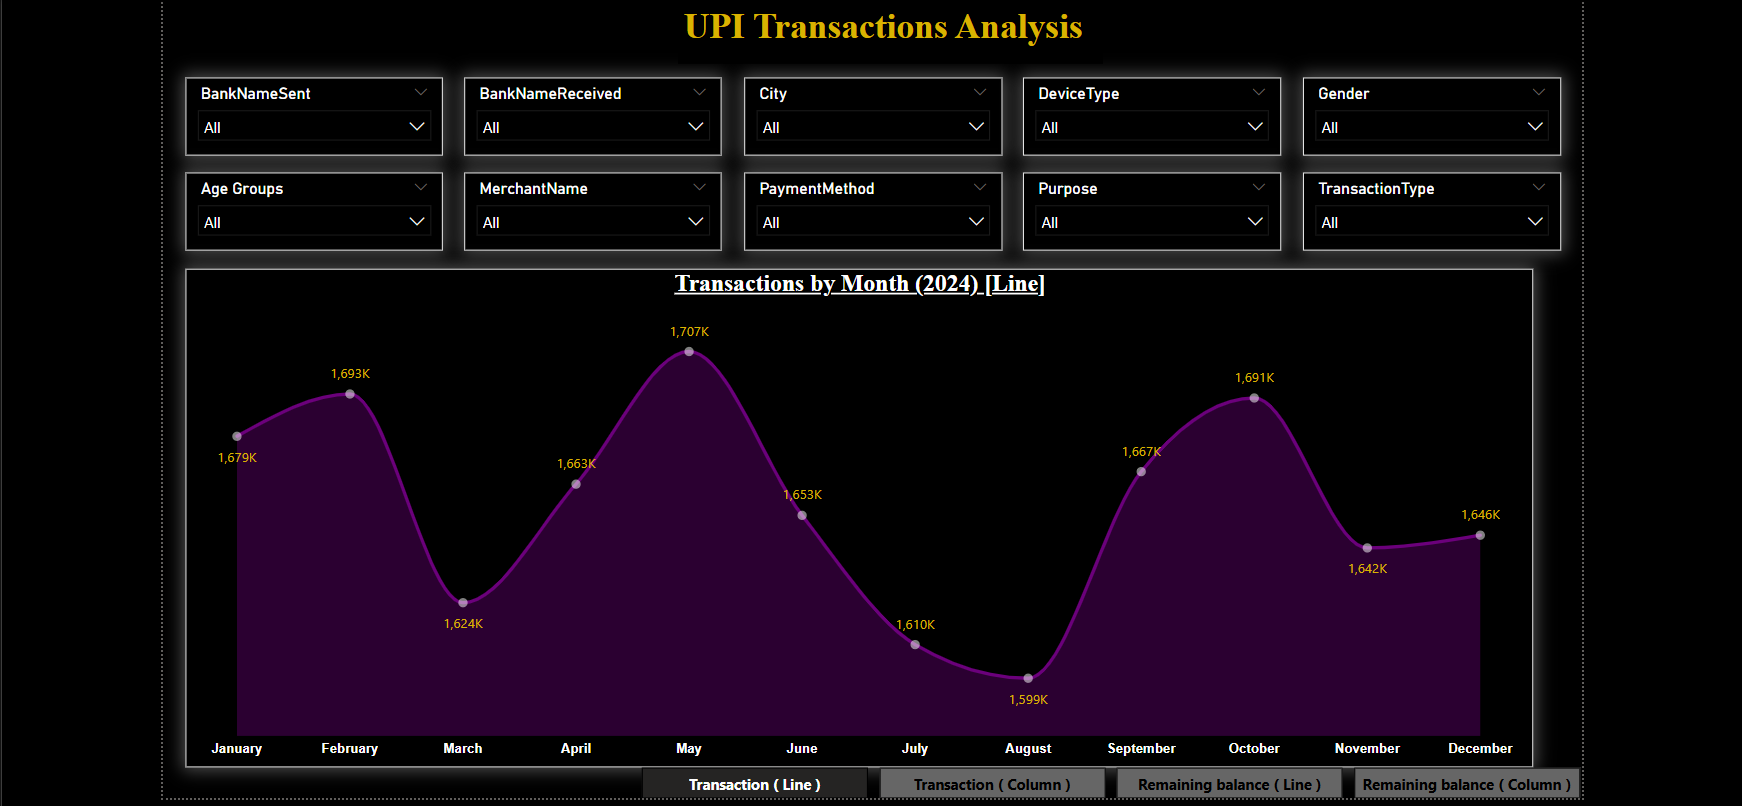

What the dashboard file says about the page in this screenshot:
{"tool":"powerbi","page":{"name":"Page 1","canvas":[1280,720],"ordinal":0},"visuals":[{"type":"slicer","fields":{"Values":["UPI Transactions.BankNameSent"]},"box":[20,70,232,70],"z":0},{"type":"slicer","fields":{"Values":["UPI Transactions.BankNameReceived"]},"box":[272,70,232,70],"z":1000},{"type":"slicer","fields":{"Values":["UPI Transactions.City"]},"box":[524,70,232.6,70],"z":2000},{"type":"slicer","fields":{"Values":["UPI Transactions.DeviceType"]},"box":[776,70,232.6,70],"z":3000},{"type":"slicer","fields":{"Values":["UPI Transactions.Gender"]},"box":[1028,70,232.6,70],"z":4000},{"type":"slicer","fields":{"Values":["UPI Transactions.Age Groups"]},"box":[20,155,232,70],"z":5000},{"type":"slicer","fields":{"Values":["UPI Transactions.MerchantName"]},"box":[272,155,232,70],"z":6000},{"type":"slicer","fields":{"Values":["UPI Transactions.PaymentMethod"]},"box":[524,155,232.6,70],"z":7000},{"type":"slicer","fields":{"Values":["UPI Transactions.Purpose"]},"box":[776,155,232.6,70],"z":8000},{"type":"slicer","fields":{"Values":["UPI Transactions.TransactionType"]},"box":[1028,155,232.6,70],"z":9000},{"type":"areaChart","title":"Transactions by Month (2024) [Line]","fields":{"Y":["Sum(UPI Transactions.Amount)"],"Category":["UPI Transactions.TransactionDate.Variation.Date Hierarchy.Month"]},"box":[30,240,1215.7,450],"z":10000},{"type":"bookmarkNavigator","box":[431.7,691.6,848.4,28.6],"z":13501},{"type":"textbox","box":[464,0,383.1,57.2],"z":13502}]}

Visuals, with their boxes on the page's 1280x720 design canvas (x1, y1, x2, y2). These are canvas units, not pixel positions in the 1742x806 screenshot, which may show the page scaled, cropped or inside an application window:
slicer - UPI Transactions.BankNameSent: x1=20 y1=70 x2=252 y2=140
slicer - UPI Transactions.BankNameReceived: x1=272 y1=70 x2=504 y2=140
slicer - UPI Transactions.City: x1=524 y1=70 x2=757 y2=140
slicer - UPI Transactions.DeviceType: x1=776 y1=70 x2=1009 y2=140
slicer - UPI Transactions.Gender: x1=1028 y1=70 x2=1261 y2=140
slicer - UPI Transactions.Age Groups: x1=20 y1=155 x2=252 y2=225
slicer - UPI Transactions.MerchantName: x1=272 y1=155 x2=504 y2=225
slicer - UPI Transactions.PaymentMethod: x1=524 y1=155 x2=757 y2=225
slicer - UPI Transactions.Purpose: x1=776 y1=155 x2=1009 y2=225
slicer - UPI Transactions.TransactionType: x1=1028 y1=155 x2=1261 y2=225
"Transactions by Month (2024) [Line]" areaChart: x1=30 y1=240 x2=1246 y2=690
bookmarkNavigator: x1=432 y1=692 x2=1280 y2=720
textbox: x1=464 y1=0 x2=847 y2=57
